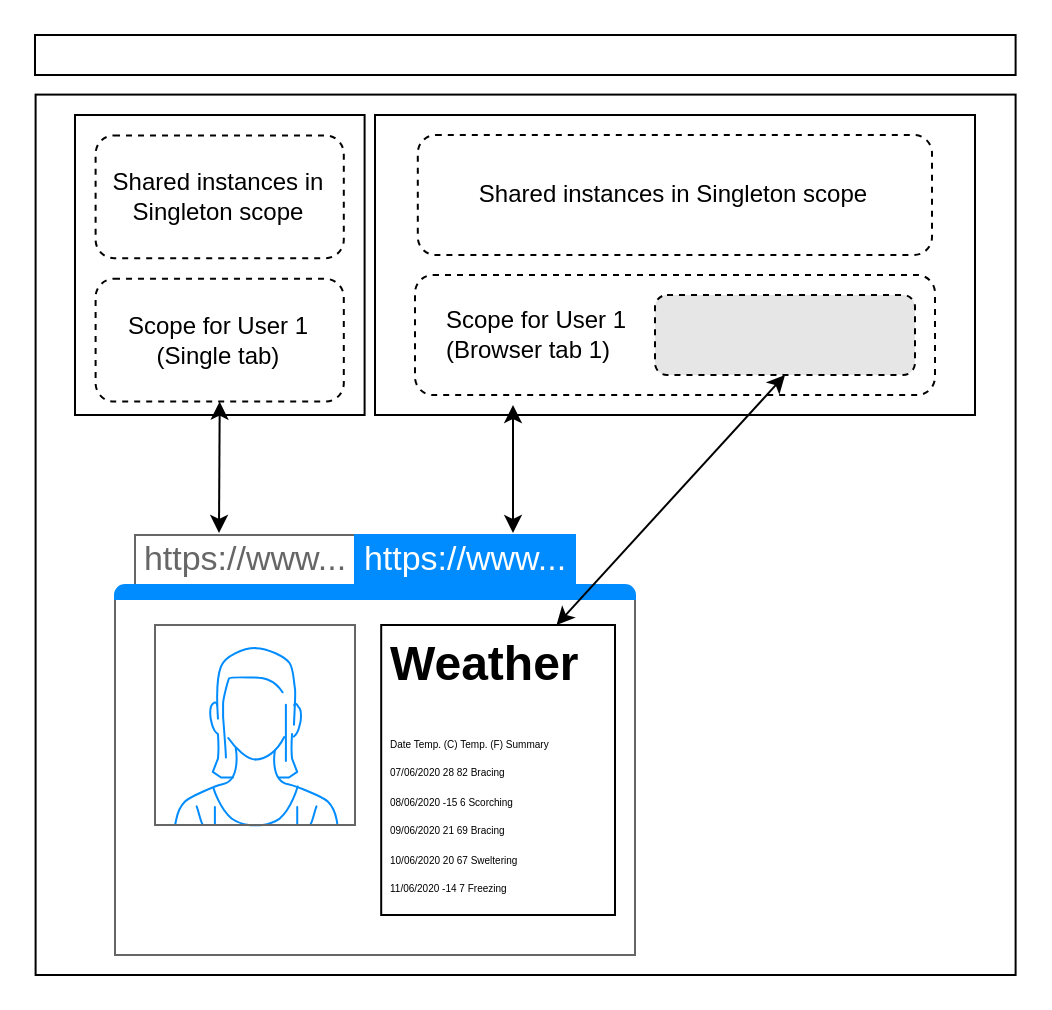
This 1052x1010 diagram has some shape labels left out. The centre of each missing label's shape, as x and y in pixels:
Computer 1: the point at 524,54
Scope for component instance: the point at 784,334
